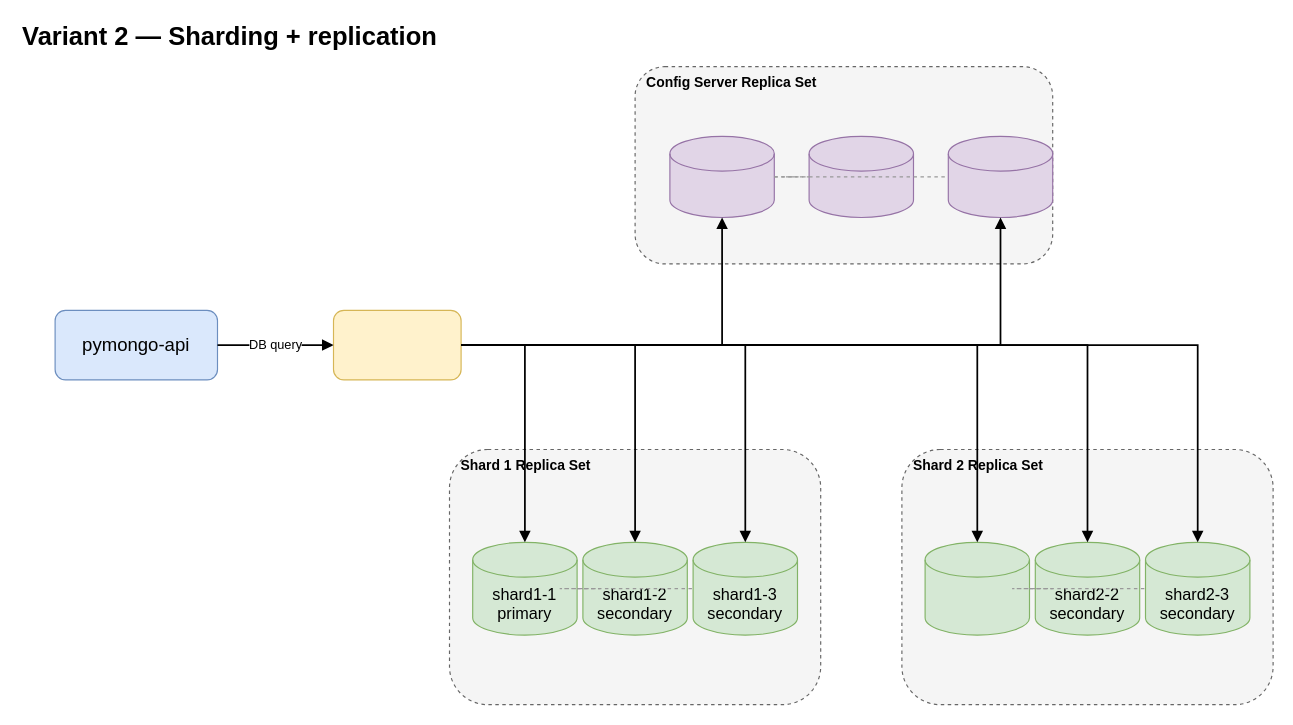
This 1293x725 diagram has some shape labels left out. The centre of each missing label's shape, as x and y in pixels:
"configSrv-1" belongs at point (721, 176).
"configSrv-2" belongs at point (860, 176).
"configSrv-3" belongs at point (1000, 176).
"mongos" belongs at point (396, 344).
"shard2-1 primary" belongs at point (977, 588).
